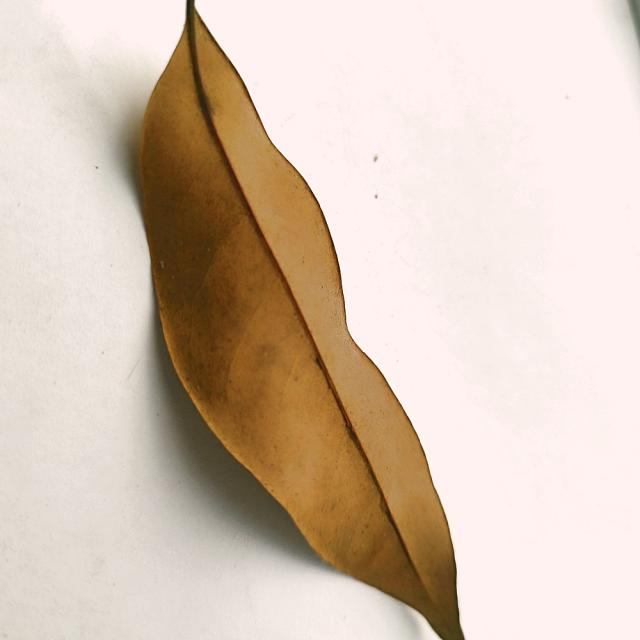Dry_Leaf-Lychee: (134, 0, 467, 639)
